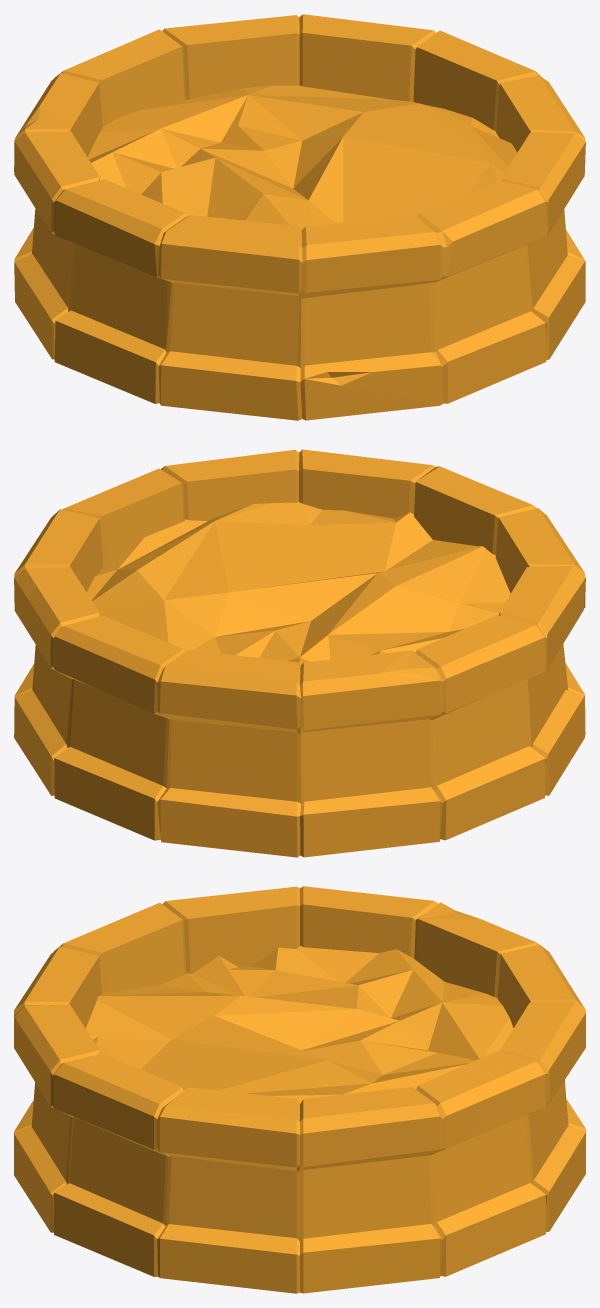
The model's file is SM_City_Planter_Street_A_Empty.fbx.
3 renders of one model, top to bottom at view 1: azimuth 30°, elevation 25°; view 2: azimuth 150°, elevation 25°; view 3: azimuth 270°, elevation 25°, orthographic.
Visible parts, largest first — view 1: SM_City_Planter_Street_A_Empty; view 2: SM_City_Planter_Street_A_Empty; view 3: SM_City_Planter_Street_A_Empty.
Part boxes in pixels (left/top/right/bottom): SM_City_Planter_Street_A_Empty: left=14, top=14, right=585, bottom=420; SM_City_Planter_Street_A_Empty: left=14, top=449, right=585, bottom=857; SM_City_Planter_Street_A_Empty: left=14, top=886, right=585, bottom=1293.
Size of the model in its own units: 1.59 by 0.5276 by 1.59.
